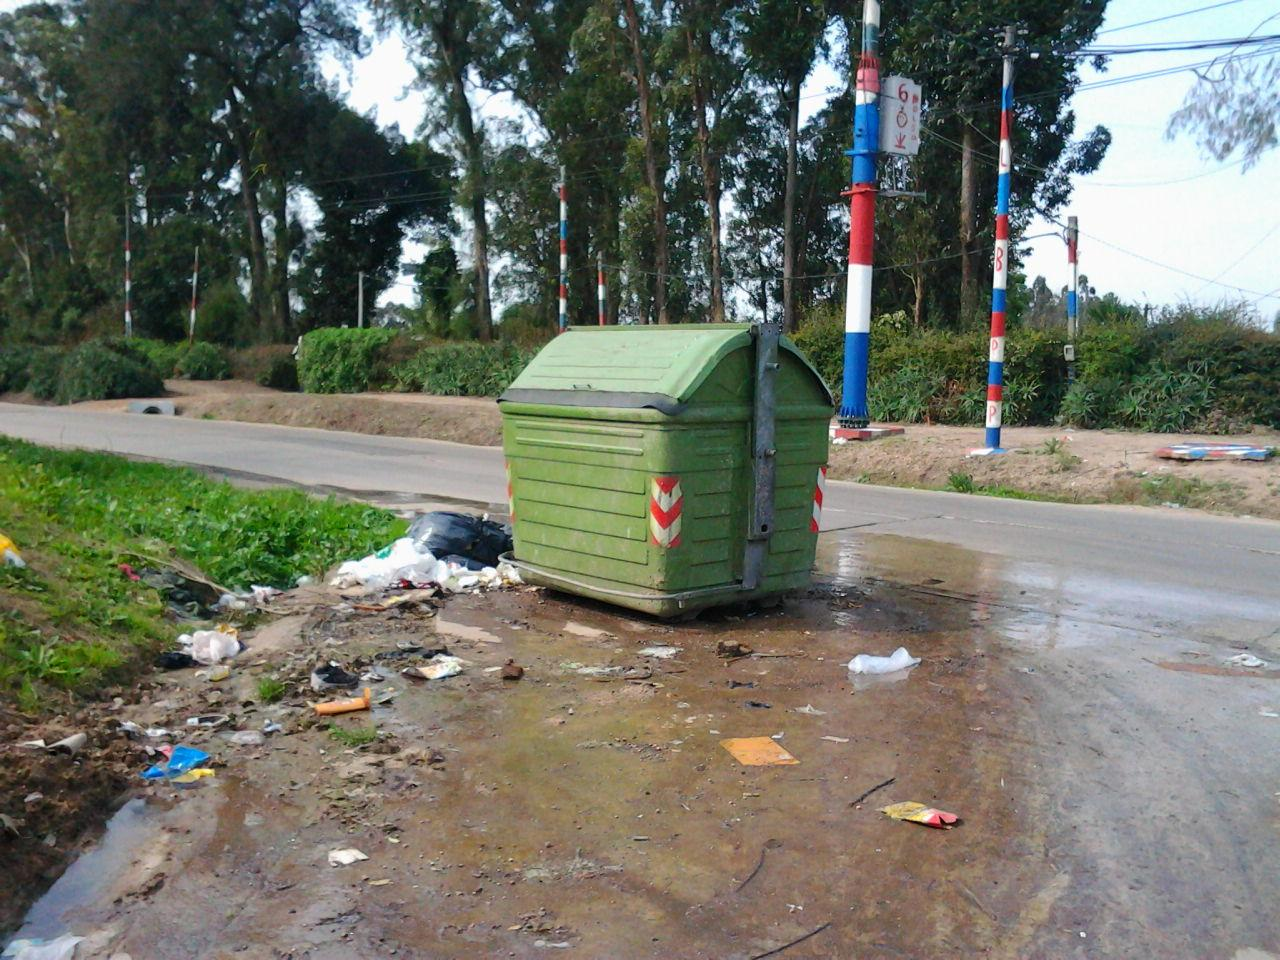Dechets: (330, 534, 446, 596), (411, 506, 507, 568), (717, 733, 800, 766), (396, 652, 471, 689), (884, 799, 964, 831), (178, 628, 247, 666), (147, 740, 218, 775), (309, 689, 376, 723), (845, 645, 917, 674)
Trash: (496, 321, 836, 621)
